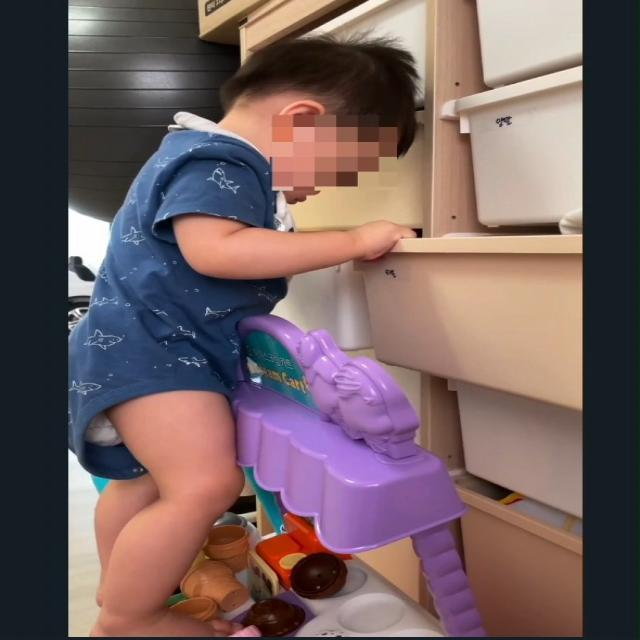child: (66, 41, 430, 640)
